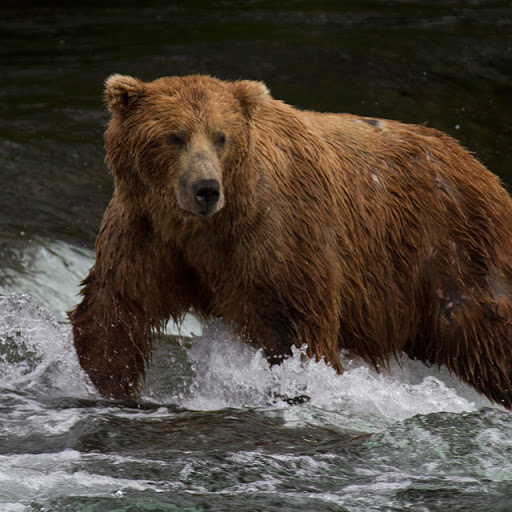bear: (99, 68, 270, 221)
